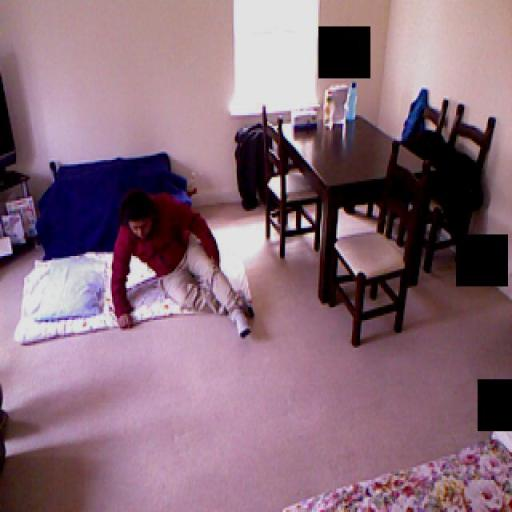Fall: (111, 190, 255, 339)
